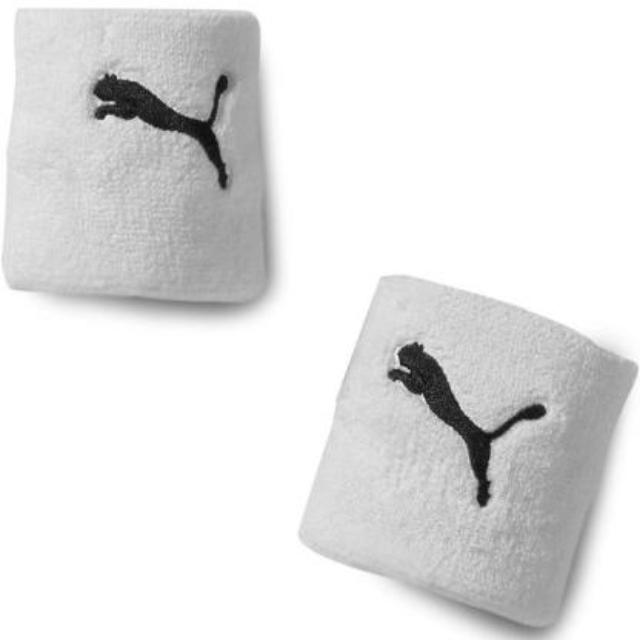PUMA_original: (379, 325, 555, 531), (83, 46, 249, 210)
